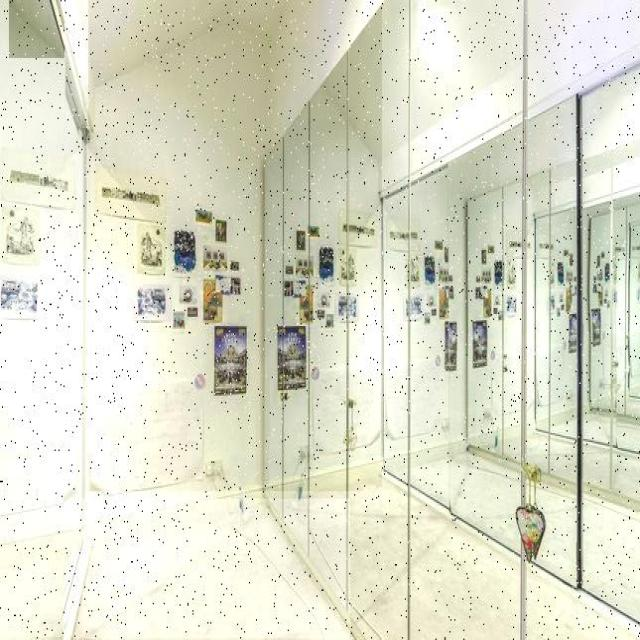Wall: (89, 0, 382, 491), (90, 0, 379, 487), (0, 0, 82, 637), (74, 501, 350, 639), (78, 0, 284, 85), (89, 478, 213, 522), (10, 0, 64, 58)
